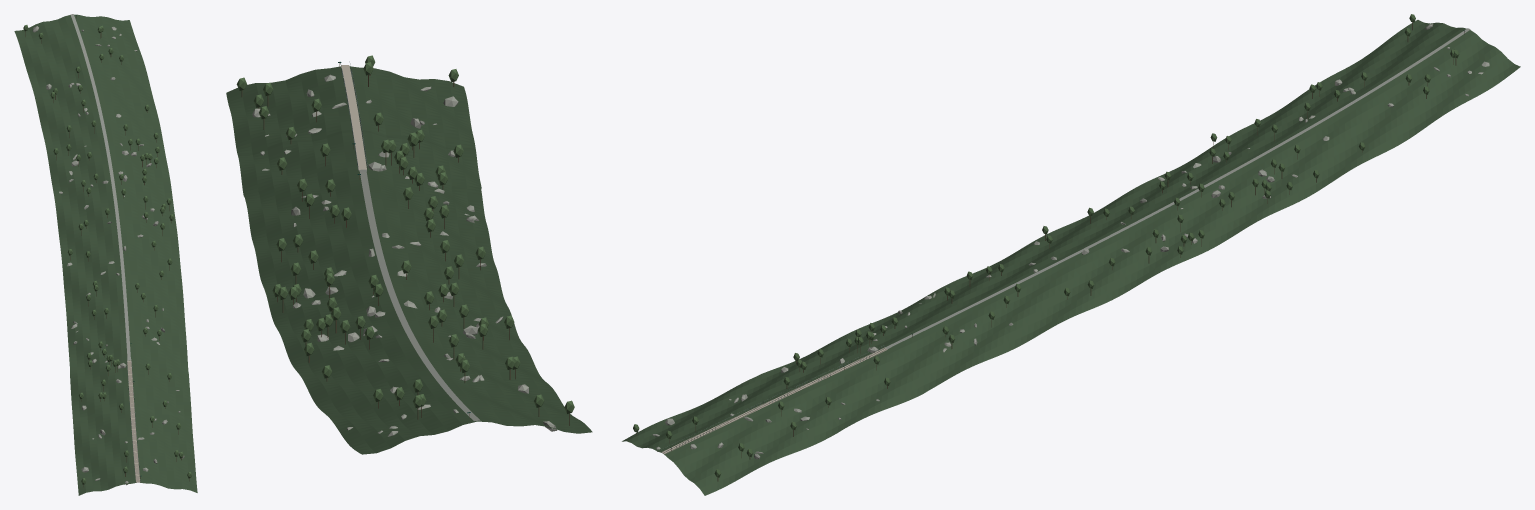
File: summit-approach-lod1.glb
The picture shows the model from 3 angles, left to right: view 1: azimuth 30°, elevation 25°; view 2: azimuth 210°, elevation 25°; view 3: azimuth 330°, elevation 25°; orthographic projection. The views are drawn at different scales.
Parts seen in each view (by area): view 1: forest, leaf, ridge, rock, stairs, bark; view 2: forest, leaf, rock, ridge, bark, stairs; view 3: forest, leaf, ridge, rock, stairs.
Boxes of the visible parts, x1,y1,x2,y2 form: forest: (14, 14, 197, 495); leaf: (23, 25, 192, 484); ridge: (70, 14, 131, 360); rock: (32, 26, 184, 485); stairs: (127, 360, 140, 482); bark: (25, 15, 189, 486); forest: (226, 66, 592, 454); leaf: (236, 55, 574, 413); rock: (252, 74, 557, 436); ridge: (359, 169, 480, 420); bark: (241, 62, 569, 425); stairs: (341, 65, 366, 169); forest: (622, 20, 1520, 495); leaf: (633, 14, 1459, 477); ridge: (885, 28, 1470, 349); rock: (652, 24, 1489, 459); stairs: (661, 347, 887, 454).
Bounding box in the file's own units: 227 × 91.7 × 386.
